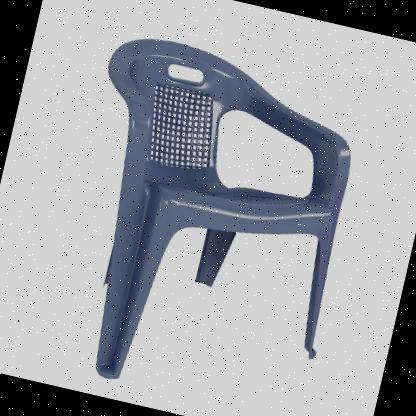chair: (36, 20, 383, 411)
